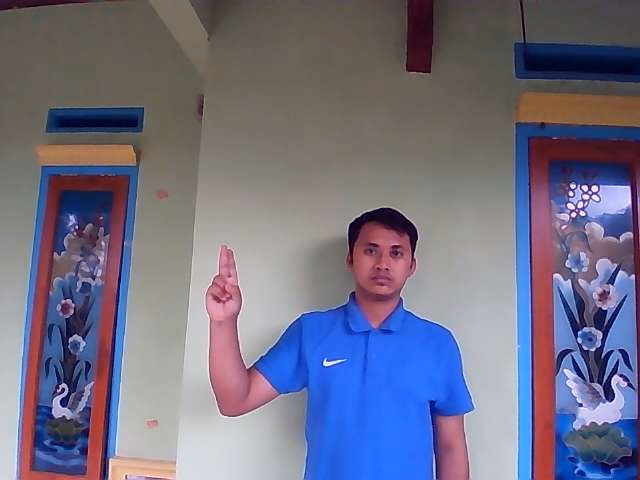U: (204, 244, 243, 319)
